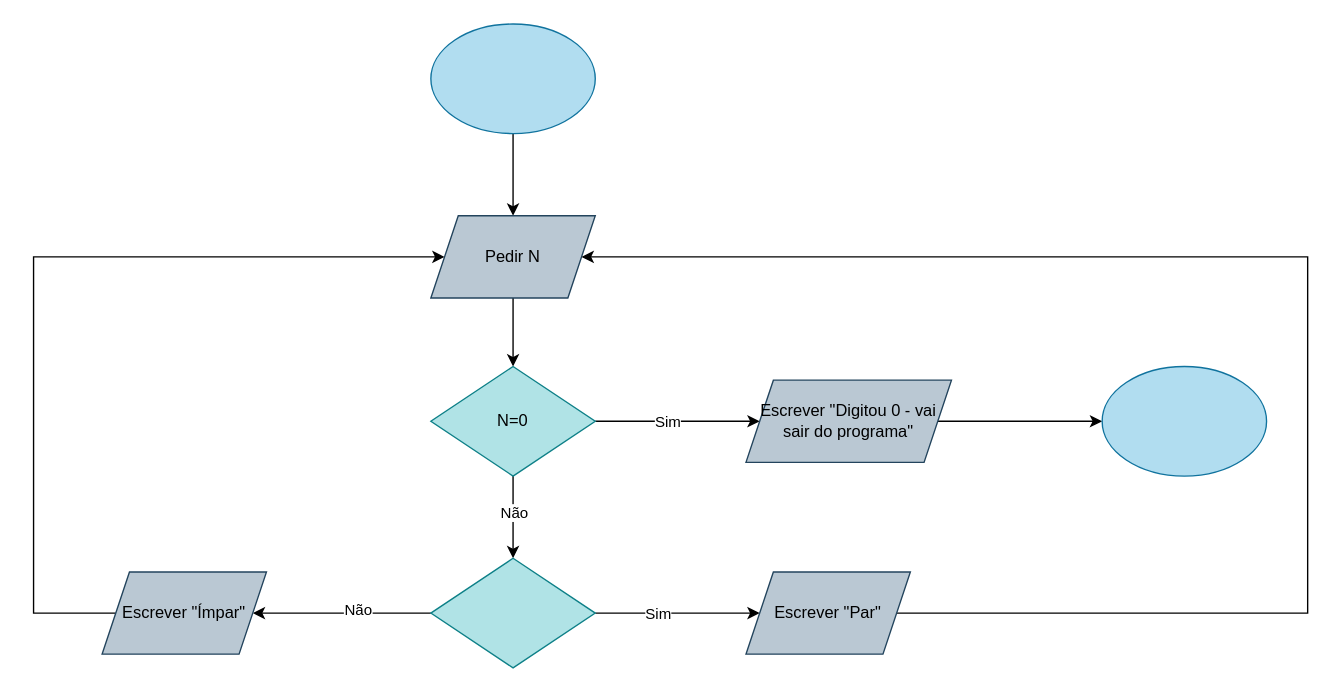
The diagram is 1343 pixels wide and 692 high, and some of its shapes have lost their labels. Here are the shapes that lost their labels. From the top down, the centre of each, then its label:
At pixel 512 78: "Início".
At pixel 1184 420: "Fim".
At pixel 512 612: "N/2=0".
